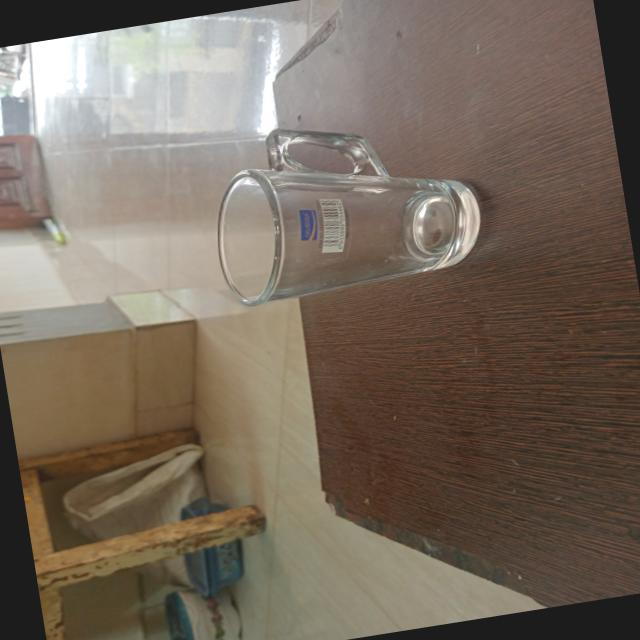glass-VX4N: (198, 100, 488, 310)
